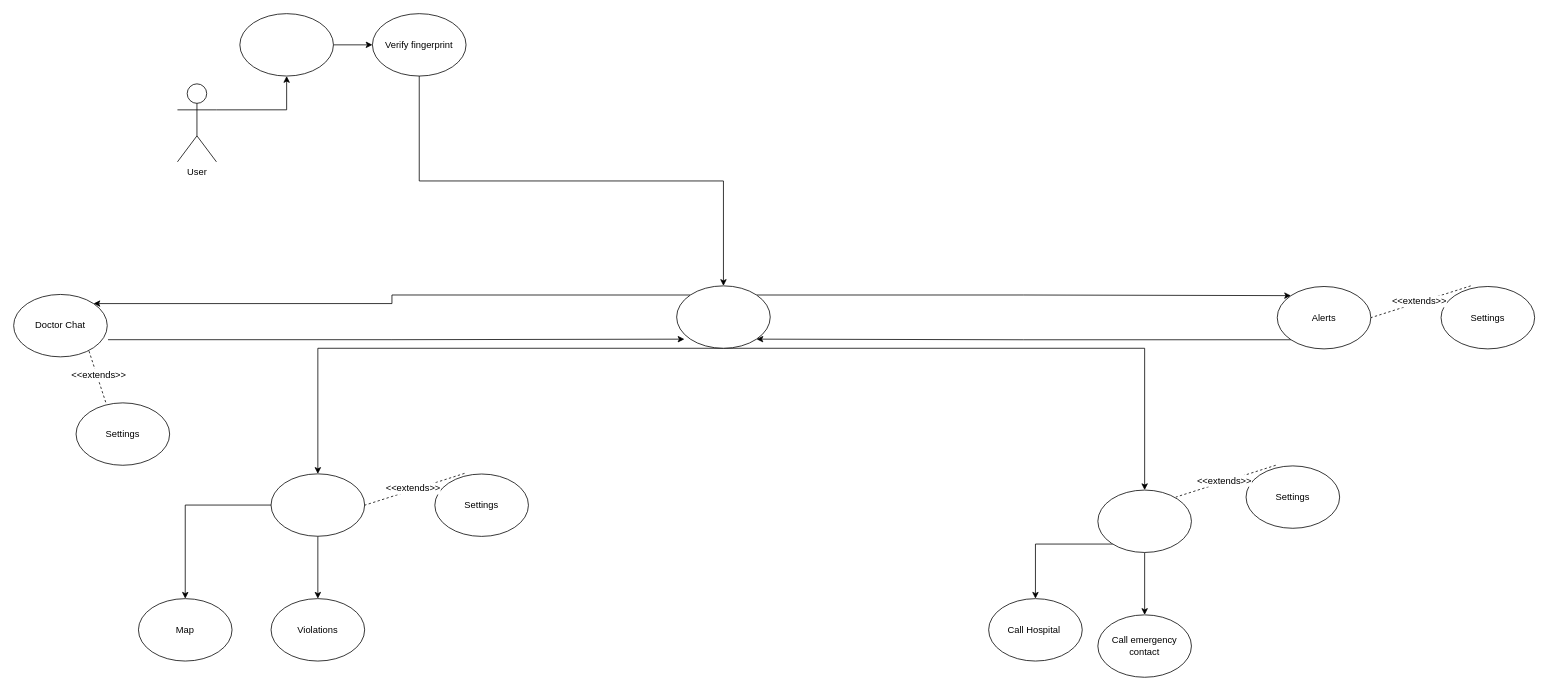
The diagram is 1548 pixels wide and 691 high, and some of its shapes have lost their labels. The centre of each missing label's shape, as x and y in pixels:
"Disability Mode" belongs at point (1144, 520).
"Driving mode" belongs at point (317, 504).
"Home screen" belongs at point (723, 316).
"Sign In with Google" belongs at point (286, 44).
